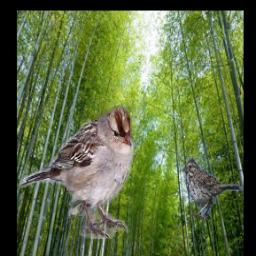Sparrow: (19, 106, 138, 240), (182, 157, 244, 221)
